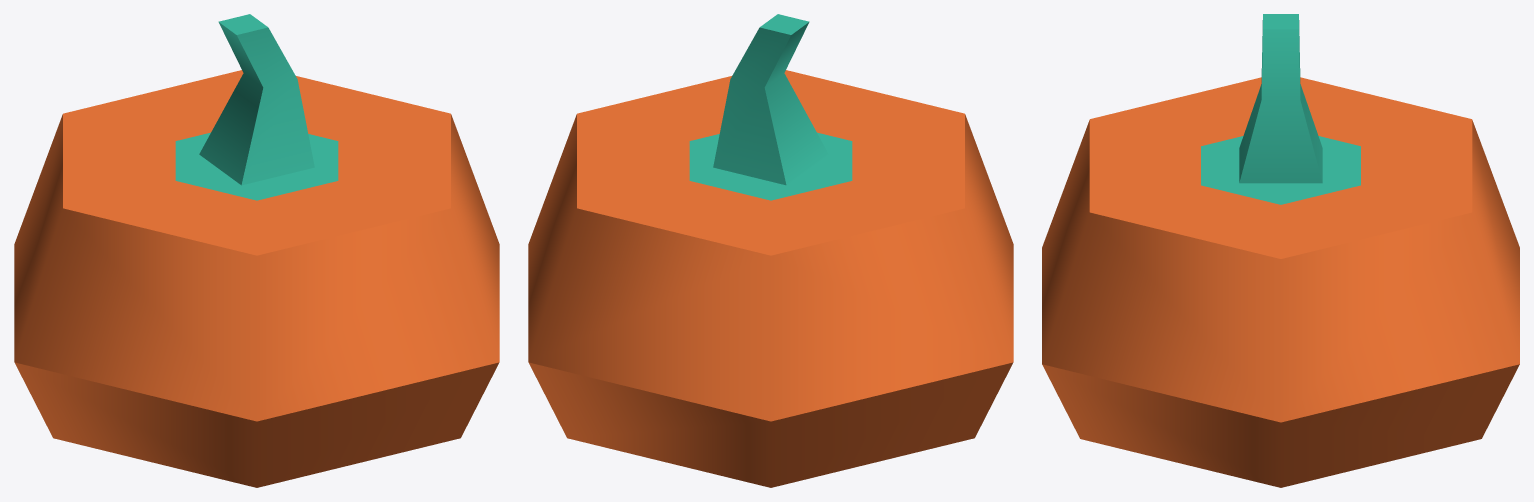
The model's file is pumpkin.fbx.
The picture shows the model from 3 angles, left to right: view 1: azimuth 30°, elevation 25°; view 2: azimuth 150°, elevation 25°; view 3: azimuth 270°, elevation 25°; orthographic projection.
Visible parts, largest first — view 1: pumpkin; view 2: pumpkin; view 3: pumpkin.
Part boxes in pixels (x1=…): pumpkin: x1=14, y1=14, x2=499, y2=487; pumpkin: x1=528, y1=14, x2=1013, y2=487; pumpkin: x1=1042, y1=14, x2=1519, y2=487.
Size of the model in its own units: 3.57 by 2.58 by 3.09.
